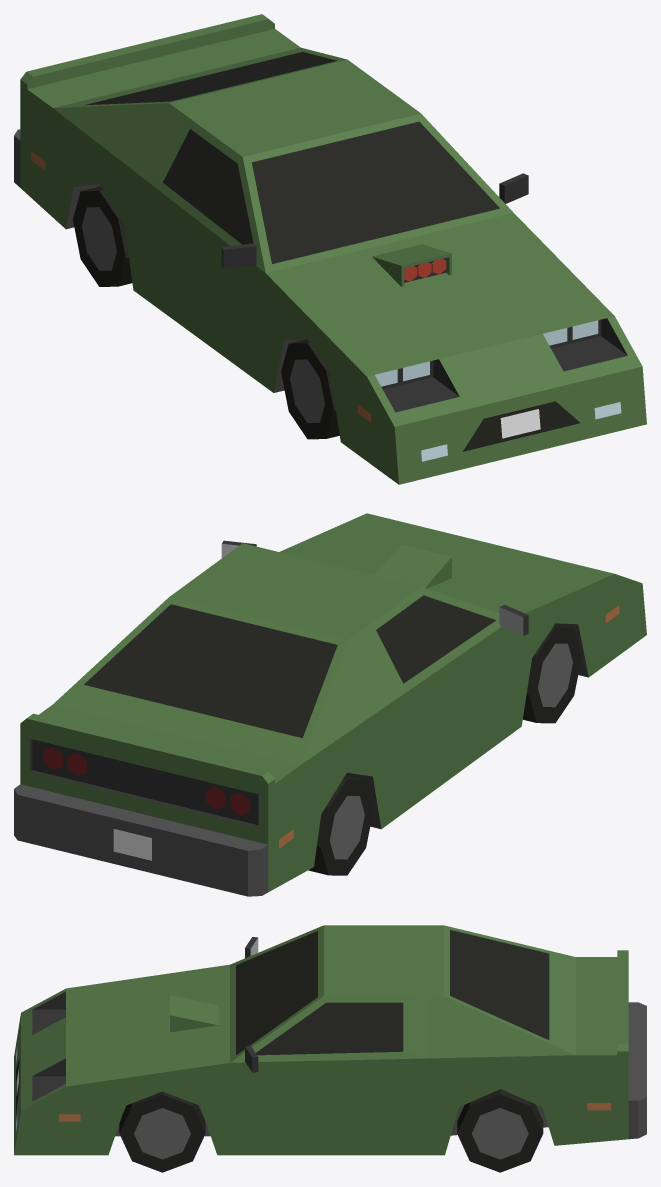
File: Veh_Muscle_Car_03_Green.obj
3 views of the same model, one above another, from view 1: azimuth 30°, elevation 25°; view 2: azimuth 150°, elevation 25°; view 3: azimuth 270°, elevation 25° (orthographic). The views are drawn at different scales.
Size of the model in its own units: 1.24 by 0.7814 by 2.75.
